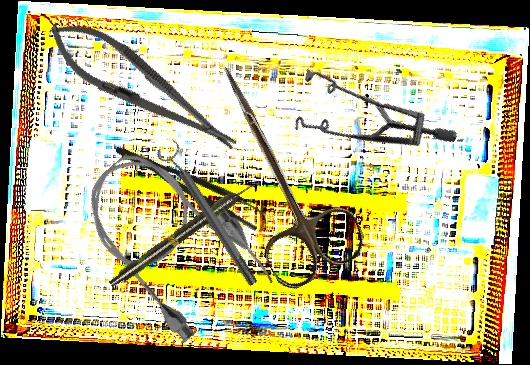Cannula: (64, 127, 283, 353)
Fixation Ring: (154, 138, 264, 292)
Handpiece: (106, 178, 259, 291)
Iris Scissors: (177, 46, 372, 296)
Needle Holder: (37, 6, 248, 169)
Speculum: (270, 23, 460, 216)
Tissue Forceps: (113, 132, 267, 233)
